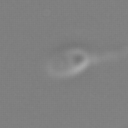normal: (88, 40, 128, 61)
